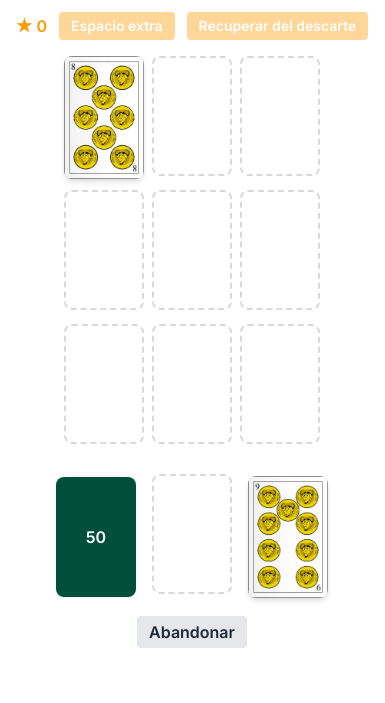
Test: GamePage · bonus › un error 409 muestra el mensaje mapeado
Click the 1st button named "8 de oros": (104, 117) [64, 56, 144, 179]
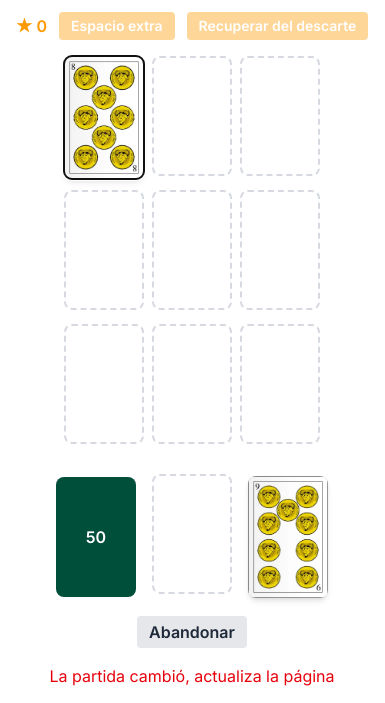
Now the message reads "La partida cambió, actualiza la página", box [49, 666, 334, 686]
